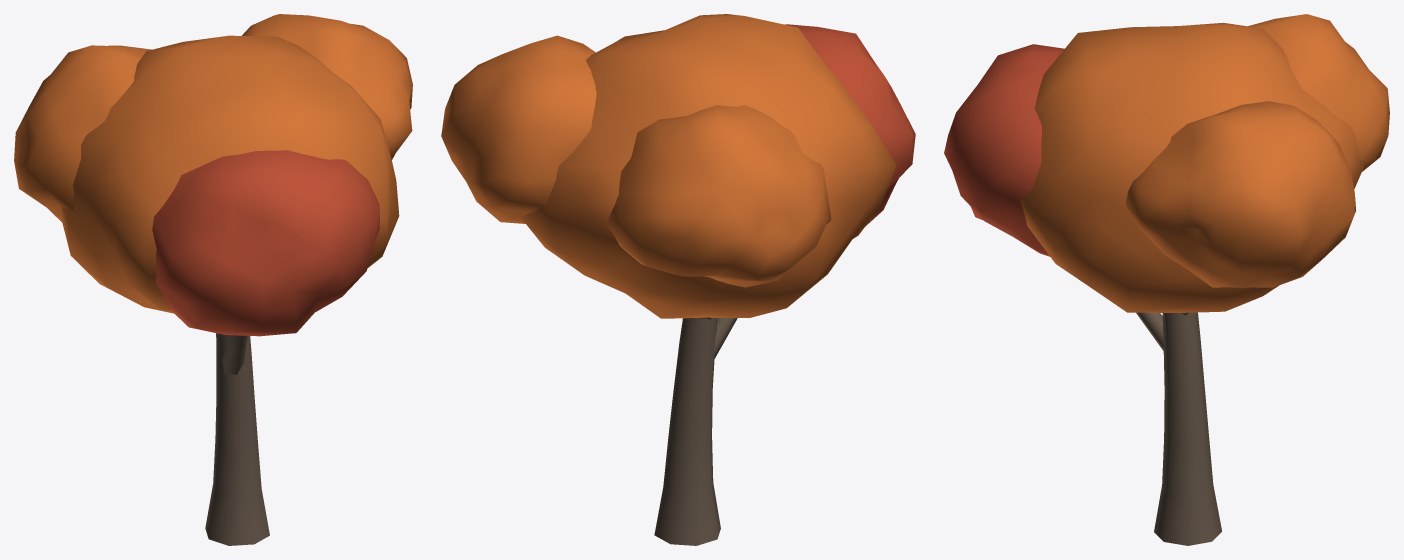
The model's file is maple_autumn_1.glb.
3 renders of one model, left to right at view 1: azimuth 30°, elevation 25°; view 2: azimuth 150°, elevation 25°; view 3: azimuth 270°, elevation 25°, orthographic. The views are drawn at different scales.
Parts seen in each view (by area): view 1: maple_autumn_1; view 2: maple_autumn_1; view 3: maple_autumn_1.
Part boxes in pixels (x1,y1,x2,y2): maple_autumn_1: (14, 14, 412, 545); maple_autumn_1: (441, 14, 915, 545); maple_autumn_1: (944, 14, 1389, 545).
Size of the model in its own units: 5.5 by 6.95 by 5.75.
